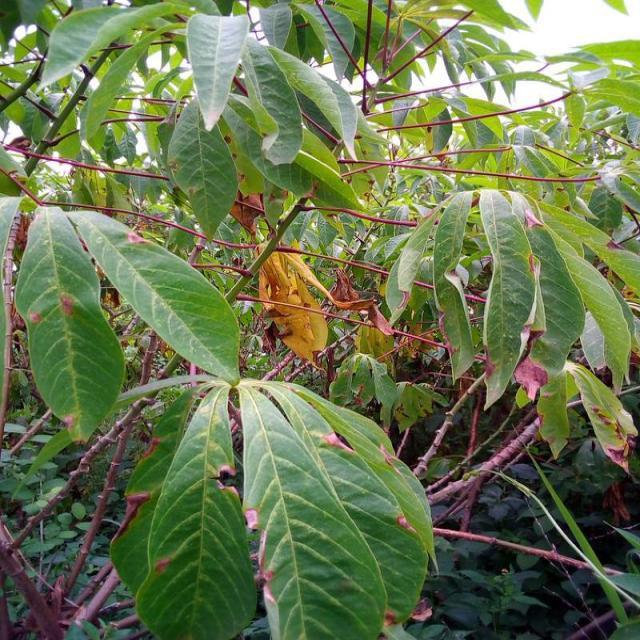cassava leaf: (238, 377, 435, 638), (67, 207, 241, 386), (134, 383, 256, 638), (14, 203, 126, 442), (478, 187, 536, 410), (165, 97, 238, 241)
